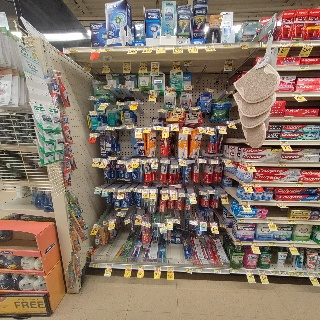All PRICE TAGS: (64, 48, 78, 52), (225, 59, 233, 65), (85, 62, 92, 68), (307, 272, 315, 277), (245, 269, 253, 274), (90, 96, 98, 101), (280, 140, 288, 145), (283, 117, 293, 121), (291, 42, 301, 46), (171, 163, 179, 168), (252, 182, 261, 186), (278, 271, 287, 275), (278, 162, 287, 166), (240, 43, 249, 47), (292, 92, 301, 96), (104, 47, 113, 51), (129, 46, 138, 50), (281, 42, 290, 46), (144, 46, 153, 50), (173, 45, 182, 49), (302, 42, 311, 46), (210, 222, 217, 227), (296, 182, 303, 187), (270, 270, 277, 275), (232, 269, 239, 274), (150, 90, 157, 95), (141, 188, 148, 193), (90, 132, 97, 137), (184, 61, 191, 66), (243, 182, 251, 186), (275, 201, 283, 205), (238, 219, 246, 223), (287, 242, 295, 246), (258, 270, 266, 274), (213, 269, 221, 273), (160, 189, 168, 193), (168, 219, 176, 223), (125, 264, 133, 268), (185, 267, 193, 271), (223, 158, 231, 162), (117, 101, 125, 105), (151, 62, 159, 66), (157, 46, 165, 50), (93, 263, 99, 268), (106, 263, 112, 268), (222, 44, 232, 47), (167, 267, 174, 271), (288, 220, 295, 224), (267, 219, 274, 223), (250, 241, 257, 245), (268, 242, 275, 246), (297, 272, 304, 276), (288, 272, 295, 276), (103, 63, 110, 67), (150, 189, 157, 193), (158, 223, 165, 227), (170, 190, 177, 194), (190, 221, 197, 225), (200, 191, 207, 195), (200, 222, 207, 226), (209, 190, 216, 194), (220, 194, 227, 198), (138, 265, 145, 269), (195, 268, 202, 272), (155, 125, 162, 129), (218, 125, 225, 129), (133, 188, 140, 192), (199, 159, 206, 163), (136, 215, 143, 219), (140, 62, 147, 66), (132, 158, 139, 162), (118, 159, 125, 163), (93, 158, 100, 162), (228, 121, 235, 125), (207, 127, 214, 131), (183, 127, 190, 131), (171, 125, 178, 129), (136, 126, 143, 130), (125, 125, 132, 129), (183, 86, 190, 90), (173, 61, 180, 65), (124, 62, 131, 66), (154, 266, 161, 270), (150, 158, 157, 162), (179, 160, 186, 164), (92, 48, 101, 51), (205, 45, 214, 48), (188, 45, 197, 48), (103, 221, 109, 225), (241, 201, 249, 204), (236, 241, 242, 245), (226, 91, 234, 94), (145, 127, 151, 131), (189, 193, 195, 197), (220, 224, 226, 228), (211, 160, 219, 163), (94, 224, 100, 228), (107, 189, 115, 192), (199, 126, 205, 130), (141, 159, 149, 162), (161, 160, 169, 163), (124, 220, 131, 223), (132, 88, 139, 91), (246, 162, 253, 165), (126, 189, 133, 192), (118, 189, 125, 192), (131, 101, 138, 104), (101, 103, 108, 106), (118, 212, 123, 216), (107, 127, 113, 130), (103, 158, 109, 161), (96, 187, 102, 190), (207, 89, 214, 91), (115, 127, 121, 129), (263, 42, 267, 45)
